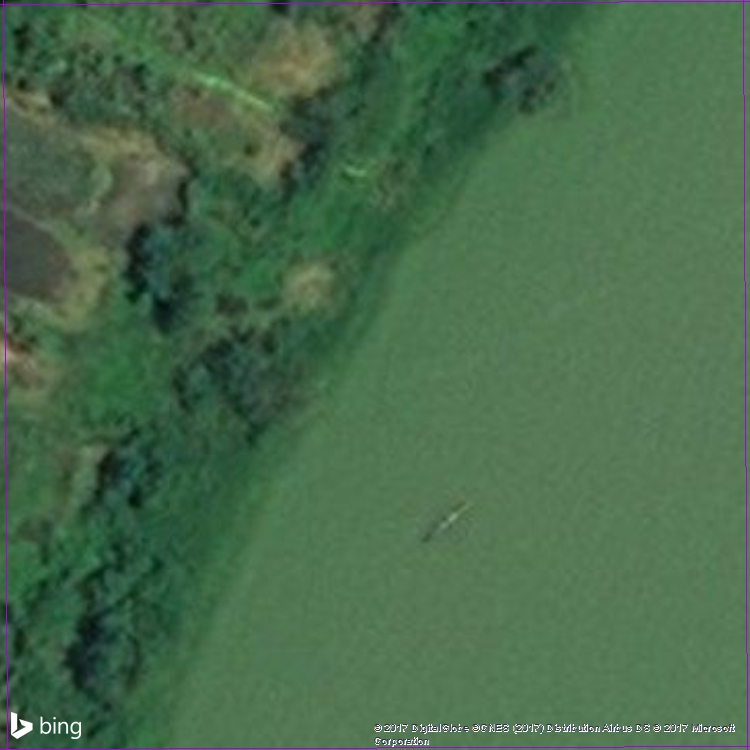boat: (411, 487, 486, 552)
